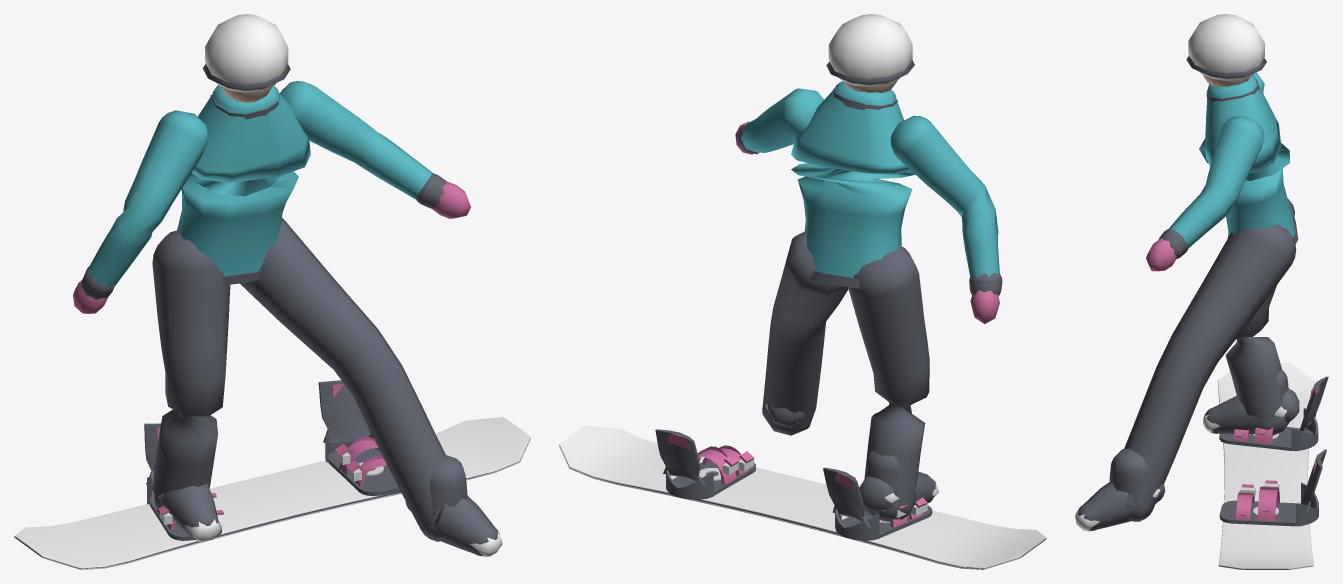
Rendered from snowboard-gear-and-freestyle-riders-rider-skating-one--c97e2089__27172.glb.
3 renders of one model, left to right at view 1: azimuth 30°, elevation 25°; view 2: azimuth 150°, elevation 25°; view 3: azimuth 270°, elevation 25°, orthographic. The views are drawn at different scales.
Parts seen in each view (by area): view 1: rider-skating-one-foot-out; view 2: rider-skating-one-foot-out; view 3: rider-skating-one-foot-out.
Part boxes in pixels (bbox=[...]): rider-skating-one-foot-out: bbox=[14, 14, 530, 569]; rider-skating-one-foot-out: bbox=[559, 14, 1046, 569]; rider-skating-one-foot-out: bbox=[1075, 14, 1328, 569].
Bounding box in the file's own units: 1.6 × 1.62 × 0.8347.
